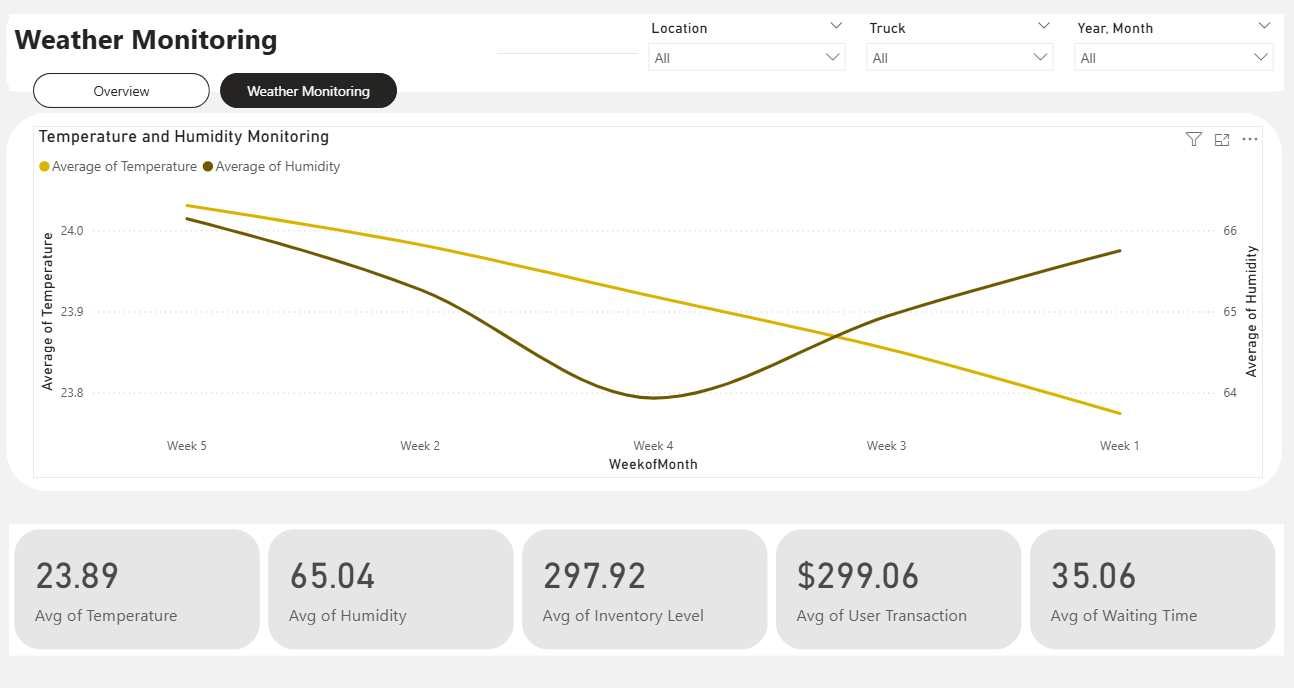

Layout of this report page (visuals, bound fields, positions):
{"tool":"powerbi","page":{"name":"Weather Monitoring","canvas":[1280,720],"ordinal":1},"visuals":[{"type":"slicer","fields":{"Values":["logisticsData.City"]},"box":[629.3,24.7,212,75.2],"z":0},{"type":"slicer","fields":{"Values":["Date.Year","Date.Month"]},"box":[1043.3,24.7,214.3,75.2],"z":1},{"type":"slicer","fields":{"Values":["logisticsData.Asset ID"]},"box":[841.4,24.7,201.9,75.2],"z":2},{"type":"textbox","box":[17.9,24.7,474.5,75.2],"z":3},{"type":"pageNavigator","box":[40.4,81.9,355.6,34.8],"z":4},{"type":"lineChart","title":"Temperature and Humidity Monitoring","fields":{"Category":["Date.WeekofMonth"],"Y":["Avg(logisticsData.Temperature)"],"Y2":["Avg(logisticsData.Humidity)"]},"box":[40.4,133.5,1197,342.2],"z":5},{"type":"cardVisual","fields":{"Data":["Avg(logisticsData.Temperature)","Avg(logisticsData.Humidity)","Avg(logisticsData.Inventory Level)","Avg(logisticsData.User Transaction Amount)","Avg(logisticsData.Waiting Time)"]},"box":[17.9,520.5,1239.6,127.9],"z":6}]}

Visuals, with their boxes on the page's 1280x720 design canvas (x1, y1, x2, y2). These are canvas units, not pixel positions in the 1294x688 screenshot, which may show the page scaled, cropped or inside an application window:
slicer - logisticsData.City: [x1=629, y1=25, x2=841, y2=100]
slicer - Date.Year x Date.Month: [x1=1043, y1=25, x2=1258, y2=100]
slicer - logisticsData.Asset ID: [x1=841, y1=25, x2=1043, y2=100]
textbox: [x1=18, y1=25, x2=492, y2=100]
pageNavigator: [x1=40, y1=82, x2=396, y2=117]
"Temperature and Humidity Monitoring" lineChart: [x1=40, y1=134, x2=1237, y2=476]
cardVisual - Avg(logisticsData.Temperature) x Avg(logisticsData.Humidity): [x1=18, y1=520, x2=1258, y2=648]
